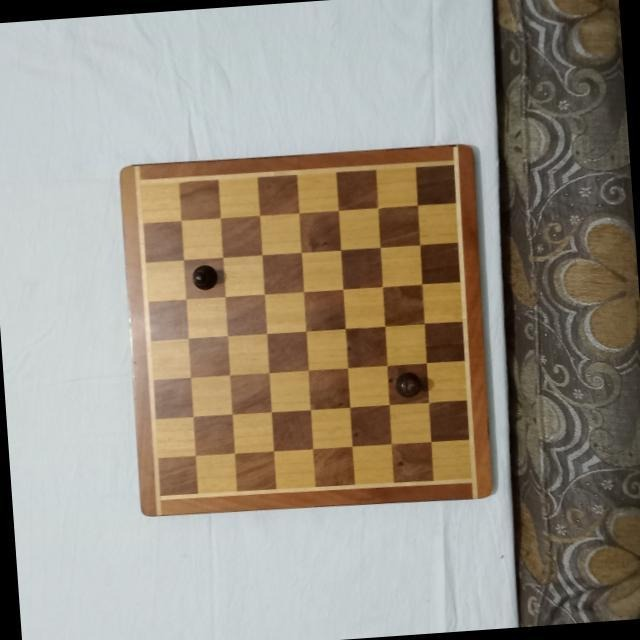black-pawn: (392, 368, 423, 398), (188, 261, 218, 291)
